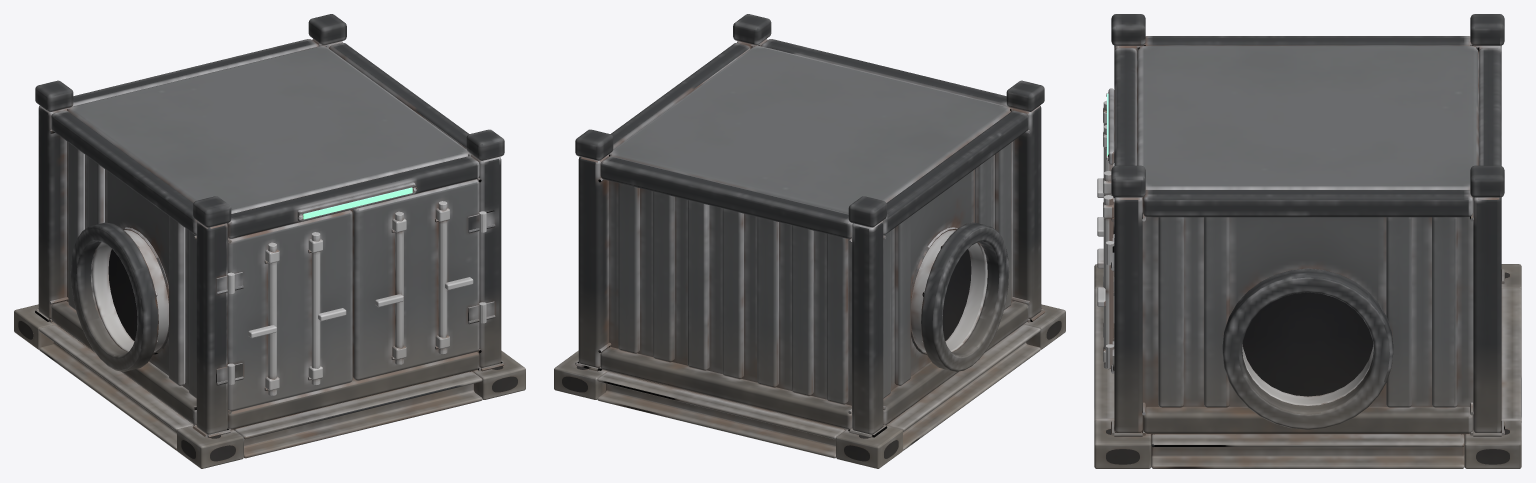
File: SM_Chest.glb
The picture shows the model from 3 angles, left to right: view 1: azimuth 30°, elevation 25°; view 2: azimuth 150°, elevation 25°; view 3: azimuth 270°, elevation 25°; orthographic projection. The views are drawn at different scales.
Parts seen in each view (by area): view 1: SM_Chest; view 2: SM_Chest; view 3: SM_Chest.
Part boxes in pixels (bbox=[...]): SM_Chest: bbox=[14, 14, 525, 468]; SM_Chest: bbox=[554, 14, 1065, 468]; SM_Chest: bbox=[1094, 14, 1521, 468].
Size of the model in its own units: 1.5 by 1.1 by 1.5.
Materials: 6 (5 with a texture image).
